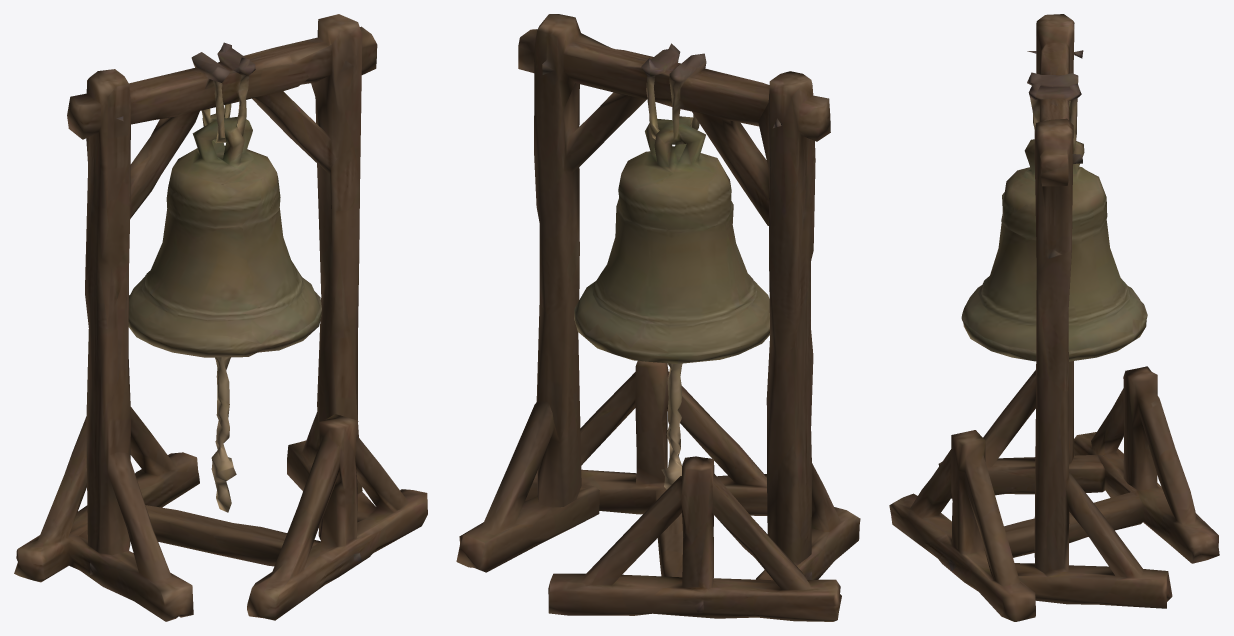
The model's file is bell_frame.glb.
3 views of the same model, side by side, from view 1: azimuth 30°, elevation 25°; view 2: azimuth 150°, elevation 25°; view 3: azimuth 270°, elevation 25° (orthographic). The views are drawn at different scales.
Visible parts, largest first — view 1: tripo_node_8dd048ab-b0a1-45ef-8ed1-3d5a31ba329f; view 2: tripo_node_8dd048ab-b0a1-45ef-8ed1-3d5a31ba329f; view 3: tripo_node_8dd048ab-b0a1-45ef-8ed1-3d5a31ba329f.
Boxes of the visible parts, x1,y1,x2,y2 form: tripo_node_8dd048ab-b0a1-45ef-8ed1-3d5a31ba329f: (14,14,427,621); tripo_node_8dd048ab-b0a1-45ef-8ed1-3d5a31ba329f: (456,14,860,621); tripo_node_8dd048ab-b0a1-45ef-8ed1-3d5a31ba329f: (889,14,1219,621).
Size of the model in its own units: 0.7492 by 0.9796 by 0.6234.
Materials: 1 (1 with a texture image).
